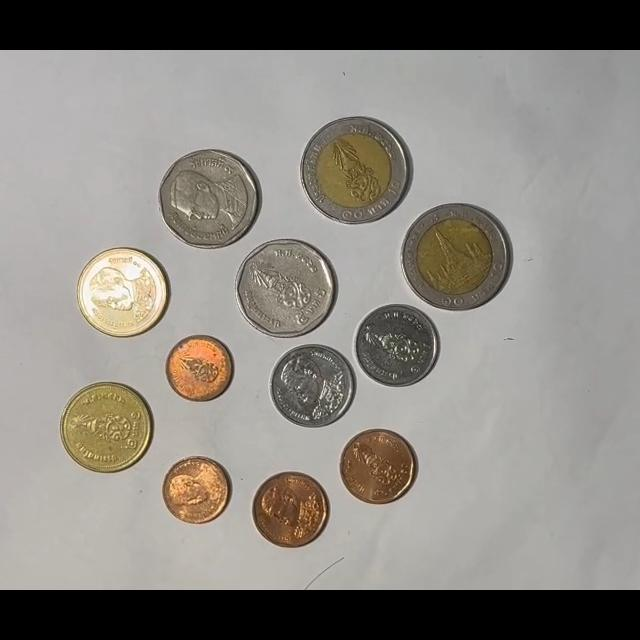1-baht: (354, 304, 439, 389), (269, 343, 354, 428)
10-baht: (300, 117, 412, 226), (401, 203, 512, 311)
2-baht: (76, 247, 168, 339), (60, 382, 153, 473)
25-satang: (161, 456, 233, 526), (166, 334, 234, 402)
5-baht: (235, 238, 337, 339), (158, 149, 260, 249)
50-satang: (252, 471, 330, 549), (339, 429, 417, 505)
